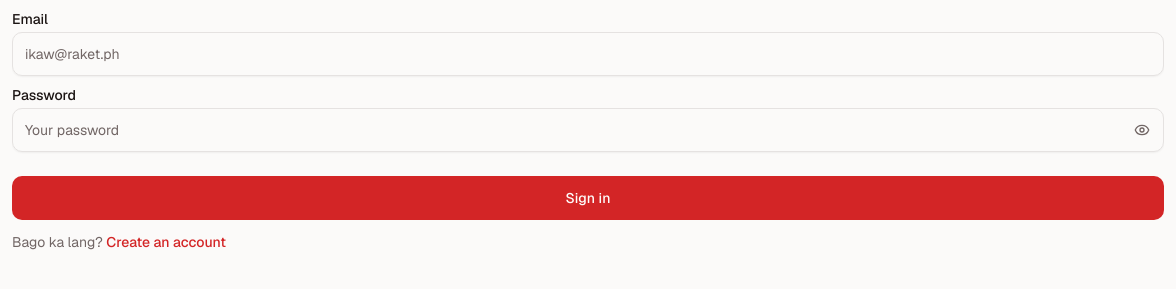
it: LoginForm › shows a field error underneath the offending input
Click the button "Sign in".
click(588, 198)  # box [12,176,1164,220]
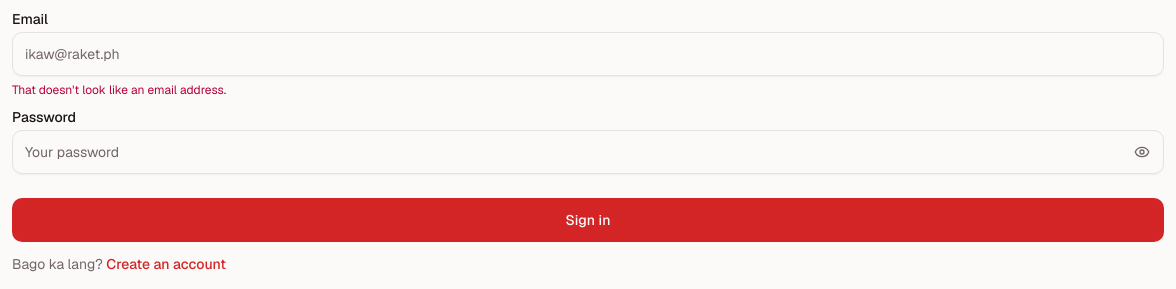
Now the text "That doesn't look like an email address." is shown, box [12,82,226,98]
